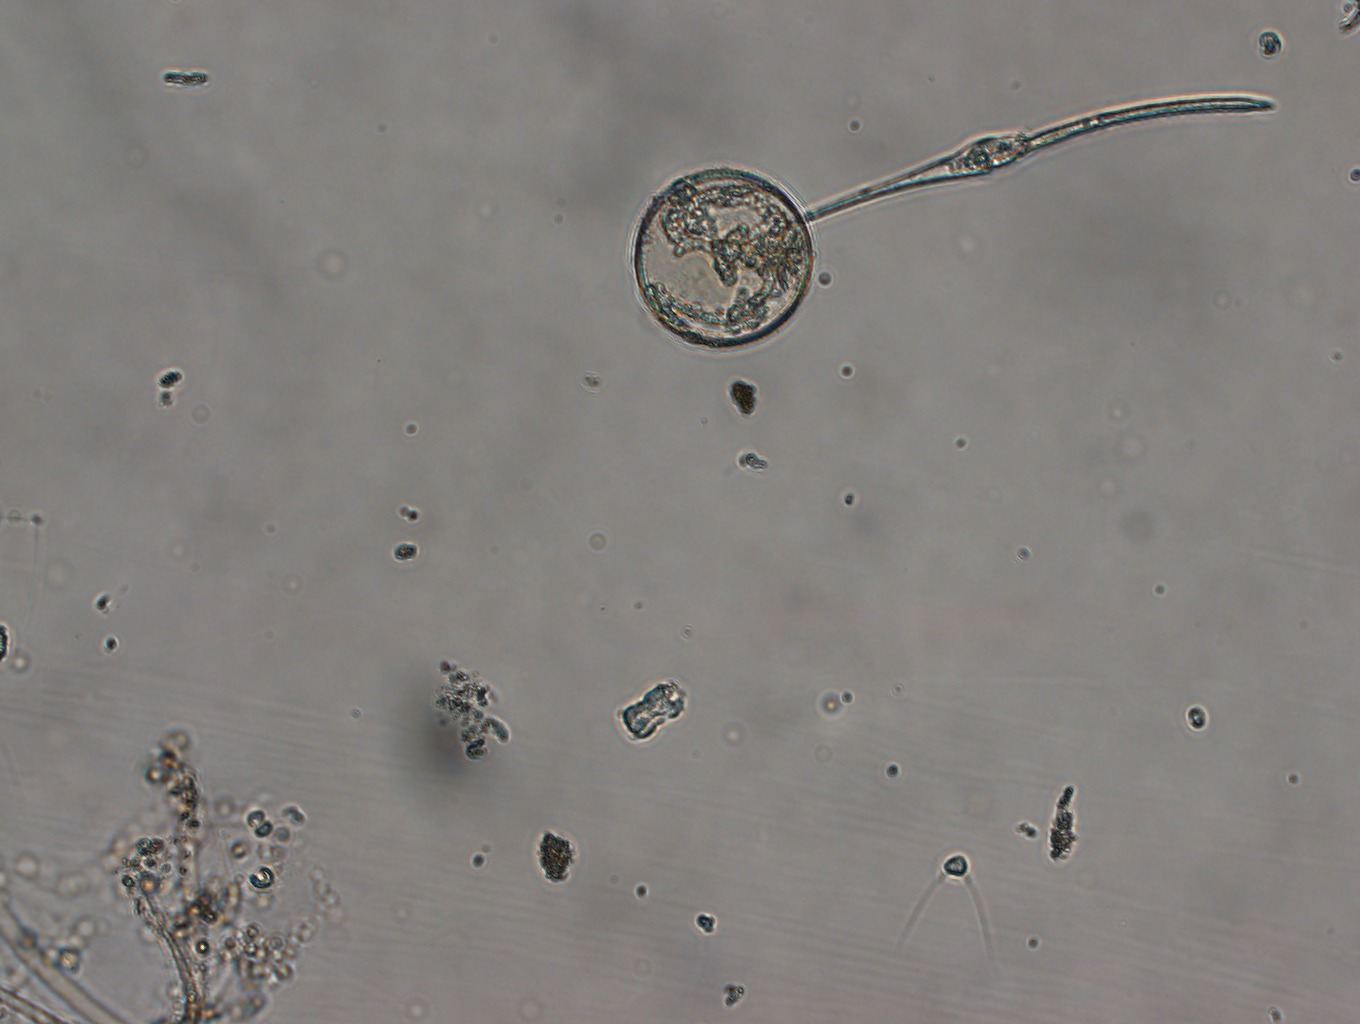ceratium fusus: (805, 93, 1278, 223)
coscinodiscus: (631, 165, 816, 353)
